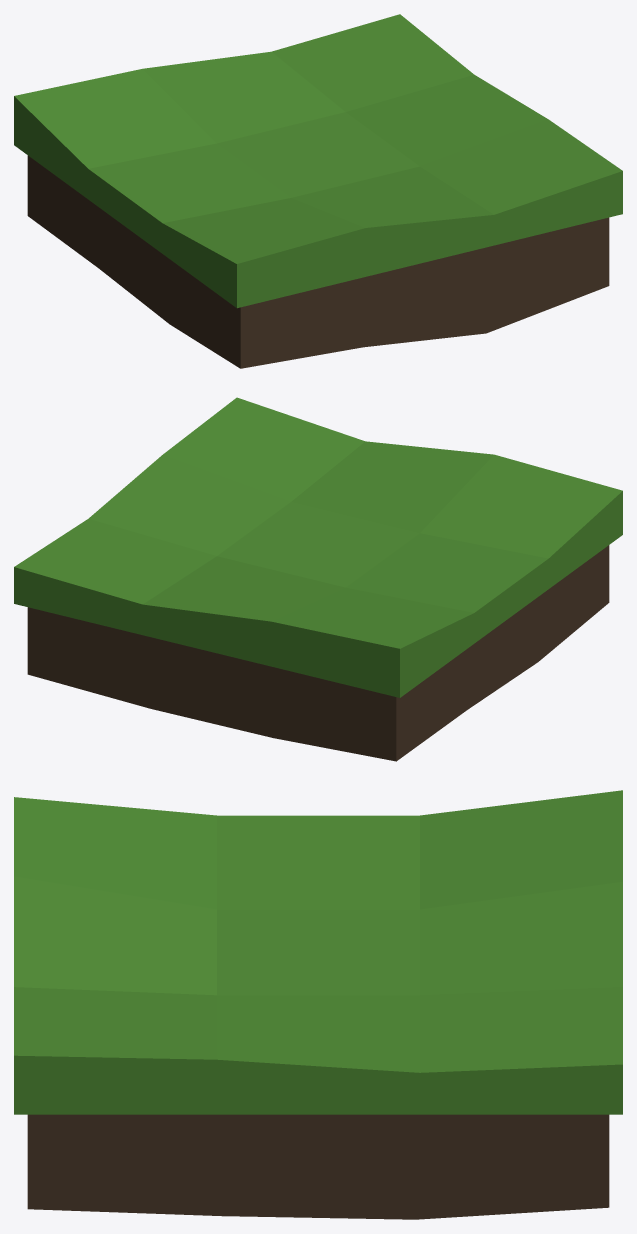
The model's file is world-field.glb.
3 renders of one model, top to bottom at view 1: azimuth 30°, elevation 25°; view 2: azimuth 150°, elevation 25°; view 3: azimuth 270°, elevation 25°, orthographic. The views are drawn at different scales.
Parts seen in each view (by area): view 1: world-field; view 2: world-field; view 3: world-field.
Part boxes in pixels (x1,y1,x2,y2): world-field: (14,14,622,368); world-field: (14,397,622,761); world-field: (14,790,622,1219).
Bounding box in the file's own units: 29.52 × 10.24 × 29.52.
Materials: 1 (1 with a texture image).
